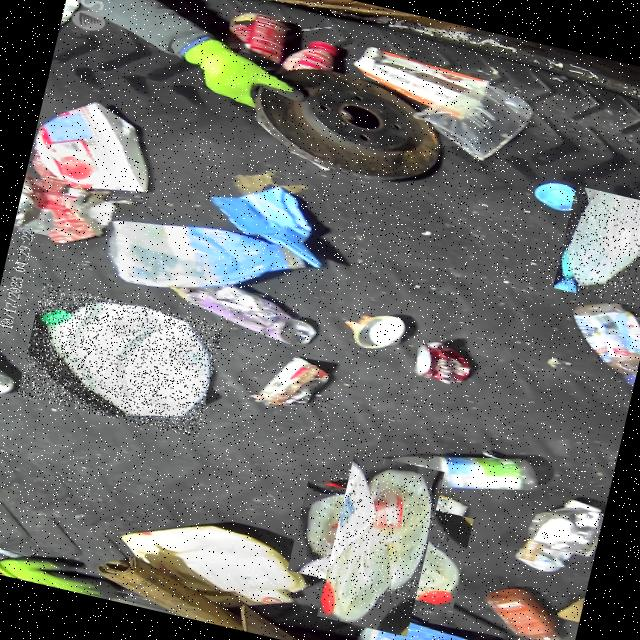milk-jug: (17, 282, 224, 436), (302, 464, 459, 622), (550, 185, 640, 307)
